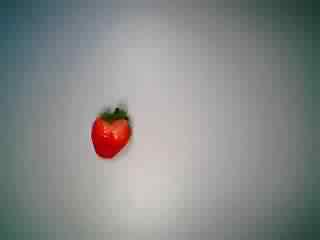strawberry: (77, 101, 143, 163)
